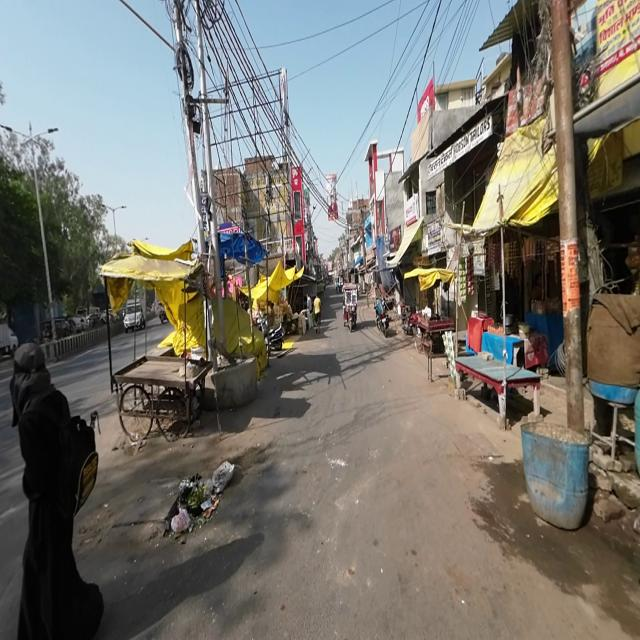Garbage: (172, 461, 232, 537)
